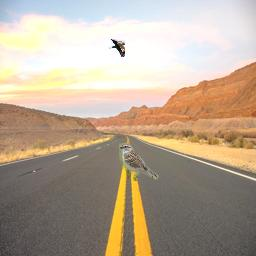Sparrow: (119, 143, 159, 181)
Swallow: (103, 39, 125, 57)
